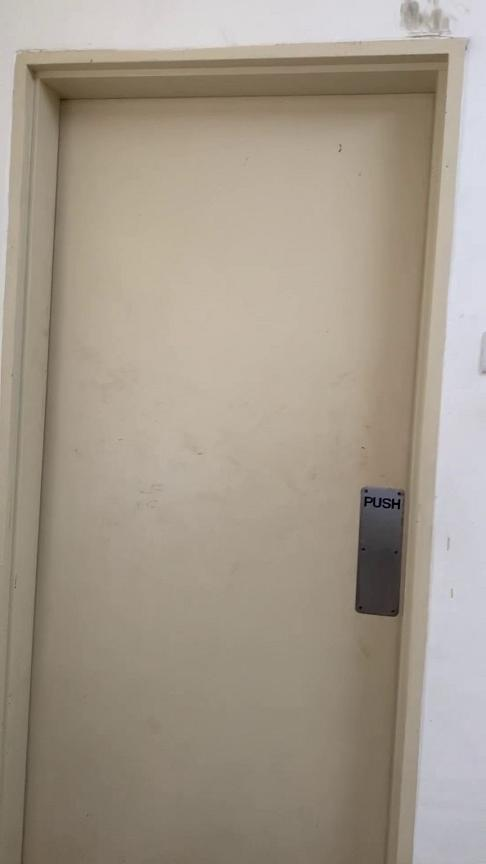door: (6, 43, 459, 864)
